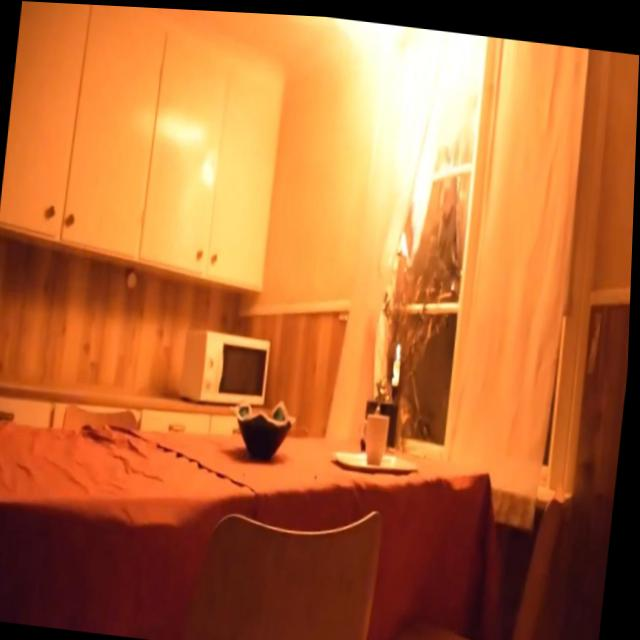fire: (303, 13, 488, 264), (395, 336, 405, 354)
